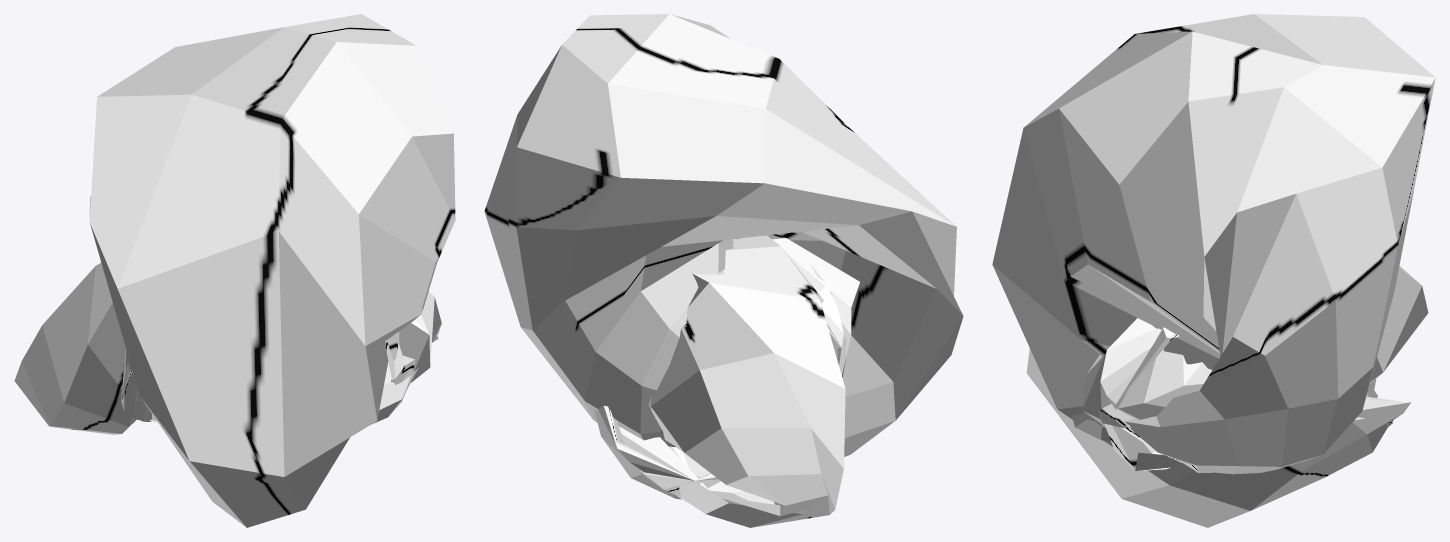
Rendered from papel-arrugado.fbx.
The picture shows the model from 3 angles, left to right: view 1: azimuth 30°, elevation 25°; view 2: azimuth 150°, elevation 25°; view 3: azimuth 270°, elevation 25°; orthographic projection. The views are drawn at different scales.
Visible parts, largest first — view 1: Papel; view 2: Papel; view 3: Papel.
Boxes of the visible parts, <box> form: Papel: <box>14,14,455,527</box>; Papel: <box>484,14,963,527</box>; Papel: <box>992,14,1435,527</box>.
Bounding box in the file's own units: 40.01 × 45.87 × 35.
Materials: 1 (1 with a texture image).
